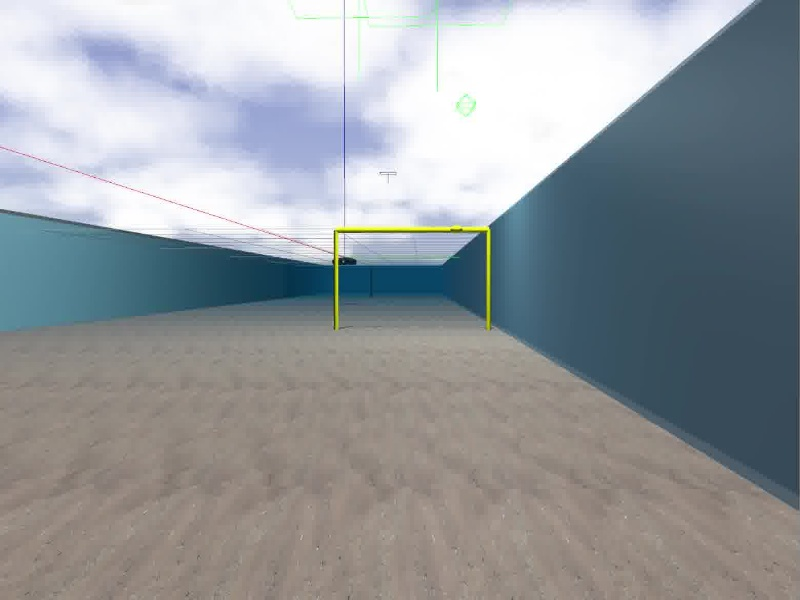gate: (333, 226, 489, 328)
